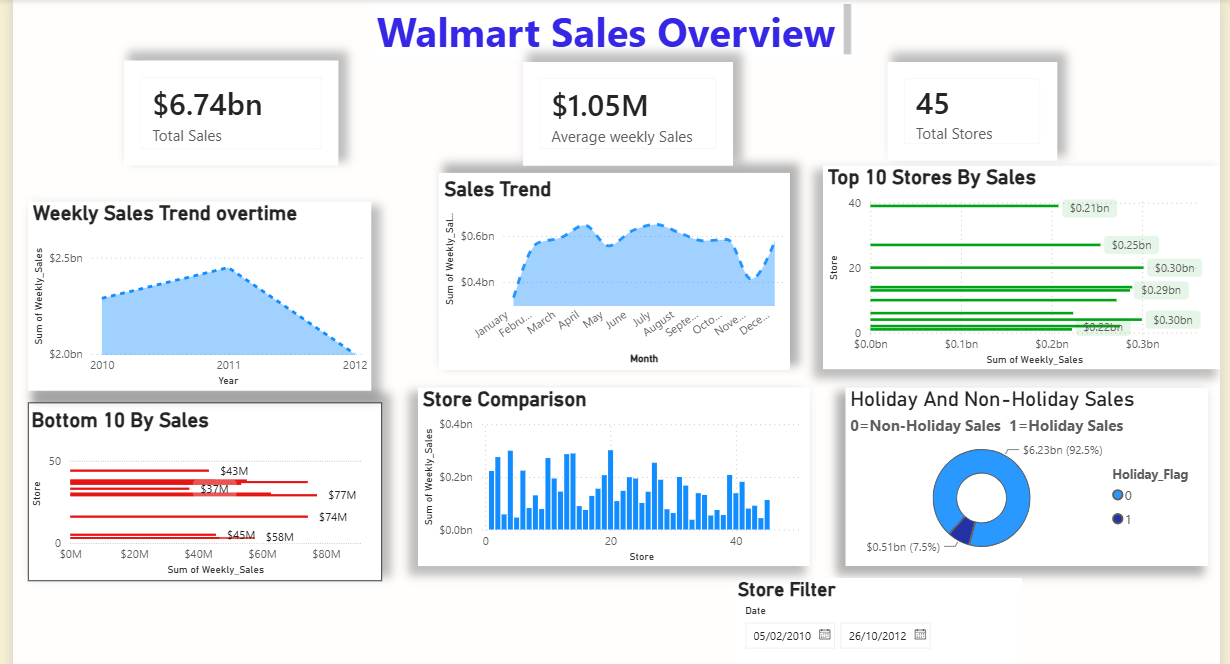

What the dashboard file says about the page in this screenshot:
{"tool":"powerbi","page":{"name":"Sales Dashboard","canvas":[1280,720],"ordinal":1},"visuals":[{"type":"lineChart","title":"Sales Trend","fields":{"Y":["Sum(Walmart_Sales.Weekly_Sales)"],"Category":["Walmart_Sales.Date.Variation.Date Hierarchy.Month"]},"box":[451.7,184.5,372.2,208.4],"z":0},{"type":"textbox","box":[0,706.2,960.7,349.9],"z":1000},{"type":"donutChart","title":"Holiday And Non-Holiday Sales","fields":{"Category":["Walmart_Sales.Holiday_Flag"],"Y":["Sum(Walmart_Sales.Weekly_Sales)"]},"box":[882.8,412,384.9,189.3],"z":2000},{"type":"barChart","title":"Bottom 10 Stores by Sales","fields":{"Category":["Walmart_Sales.Store"],"Y":["Sum(Walmart_Sales.Weekly_Sales)"]},"box":[0,758.3,528.3,281.7],"z":3000},{"type":"clusteredBarChart","title":"Top 10 Stores by Sales","fields":{"Category":["Walmart_Sales.Store"],"Y":["Sum(Walmart_Sales.Weekly_Sales)"]},"box":[368.3,791.7,448.3,265],"z":4000},{"type":"textbox","box":[380.2,0,513.8,65.2],"z":5000},{"type":"barChart","title":"Top 10 Stores By Sales","fields":{"Category":["Walmart_Sales.Store"],"Y":["Sum(Walmart_Sales.Weekly_Sales)"]},"box":[858.9,176.6,421.5,216.3],"z":6000},{"type":"cardVisual","fields":{"Data":["Sum(Walmart_Sales.Weekly_Sales)"]},"box":[117.7,65.2,227.5,111.3],"z":7000},{"type":"cardVisual","fields":{"Data":["Avg(Walmart_Sales.Weekly_Sales)"]},"box":[540.8,66.8,222.7,109.8],"z":8000},{"type":"cardVisual","fields":{"Data":["Count(Walmart_Sales.Store)"]},"box":[927.3,66.8,179.7,105],"z":9000},{"type":"clusteredBarChart","title":"Bottom 10 By Sales","fields":{"Y":["Sum(Walmart_Sales.Weekly_Sales)"],"Category":["Walmart_Sales.Store"]},"box":[15.9,427.9,375.4,189.3],"z":10000},{"type":"slicer","title":"Store Filter","fields":{"Values":["Walmart_Sales.Date"]},"box":[763.5,614,307,106.6],"z":11000},{"type":"lineStackedColumnComboChart","title":"Store Comparison","fields":{"Category":["Walmart_Sales.Store"],"Y":["Sum(Walmart_Sales.Weekly_Sales)"]},"box":[429.5,412,415.1,189.3],"z":12000},{"type":"lineChart","title":"Weekly Sales Trend overtime","fields":{"Y":["Sum(Walmart_Sales.Weekly_Sales)"],"Category":["Walmart_Sales.Date.Variation.Date Hierarchy.Year","Walmart_Sales.Date.Variation.Date Hierarchy.Quarter","Walmart_Sales.Date.Variation.Date Hierarchy.Month","Walmart_Sales.Date.Variation.Date Hierarchy.Day"]},"box":[15.9,214.7,364.2,200.4],"z":14000}]}

Visuals, with their boxes on the page's 1280x720 design canvas (x1, y1, x2, y2). These are canvas units, not pixel positions in the 1230x664 screenshot, which may show the page scaled, cropped or inside an application window:
"Sales Trend" lineChart: BBox(452, 184, 824, 393)
textbox: BBox(0, 706, 961, 1056)
"Holiday And Non-Holiday Sales" donutChart: BBox(883, 412, 1268, 601)
"Bottom 10 Stores by Sales" barChart: BBox(0, 758, 528, 1040)
"Top 10 Stores by Sales" clusteredBarChart: BBox(368, 792, 817, 1057)
textbox: BBox(380, 0, 894, 65)
"Top 10 Stores By Sales" barChart: BBox(859, 177, 1280, 393)
cardVisual - Sum(Walmart_Sales.Weekly_Sales): BBox(118, 65, 345, 176)
cardVisual - Avg(Walmart_Sales.Weekly_Sales): BBox(541, 67, 764, 177)
cardVisual - Count(Walmart_Sales.Store): BBox(927, 67, 1107, 172)
"Bottom 10 By Sales" clusteredBarChart: BBox(16, 428, 391, 617)
"Store Filter" slicer: BBox(764, 614, 1070, 721)
"Store Comparison" lineStackedColumnComboChart: BBox(430, 412, 845, 601)
"Weekly Sales Trend overtime" lineChart: BBox(16, 215, 380, 415)
